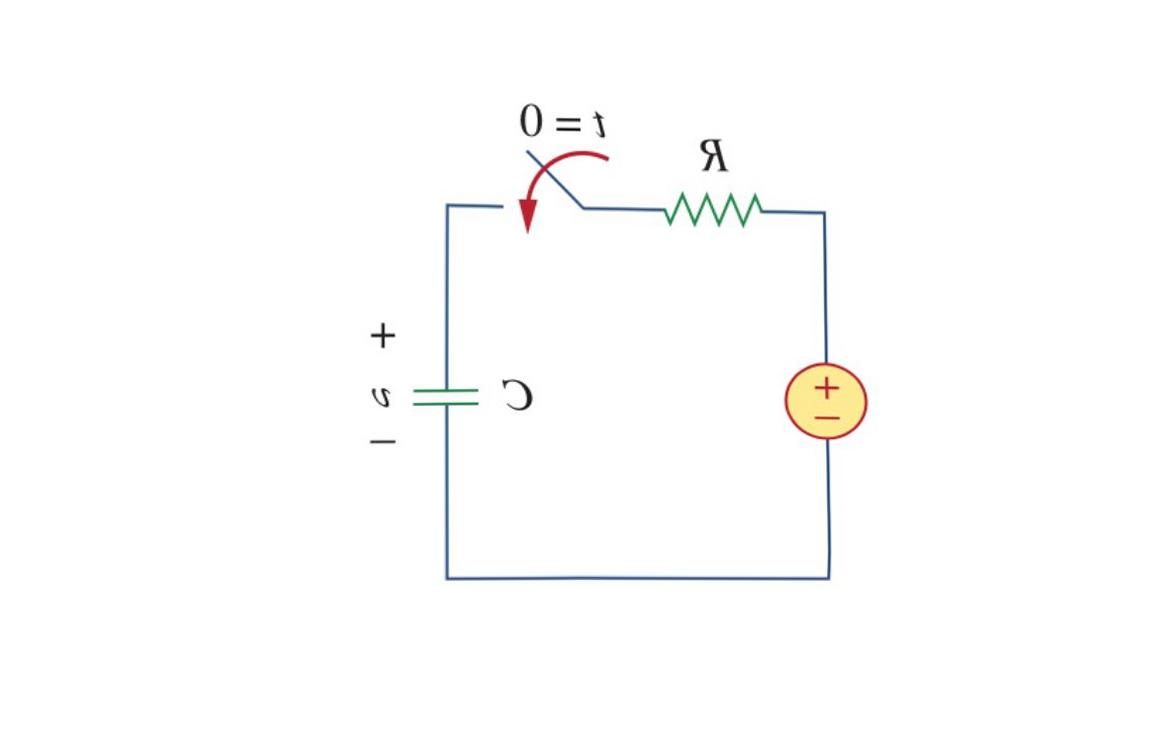Battery: (757, 334, 898, 470)
